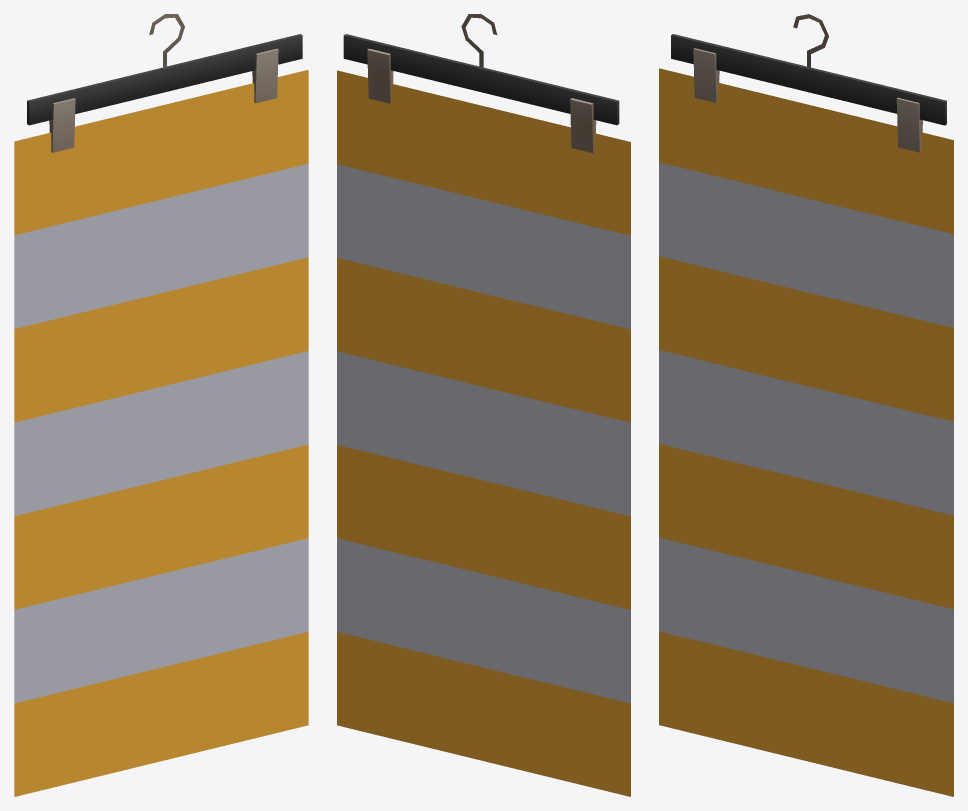
Rendered from Hang_Towel_02.fbx.
3 views of the same model, side by side, from view 1: azimuth 30°, elevation 25°; view 2: azimuth 150°, elevation 25°; view 3: azimuth 330°, elevation 25° (orthographic).
Parts seen in each view (by area): view 1: Hang_Towel_02; view 2: Hang_Towel_02; view 3: Hang_Towel_02.
Boxes of the visible parts, x1,y1,x2,y2 form: Hang_Towel_02: (14, 14, 308, 796); Hang_Towel_02: (337, 14, 630, 796); Hang_Towel_02: (659, 14, 953, 796).
Size of the model in its own units: 0.1666 by 0.4046 by 0.00506.
